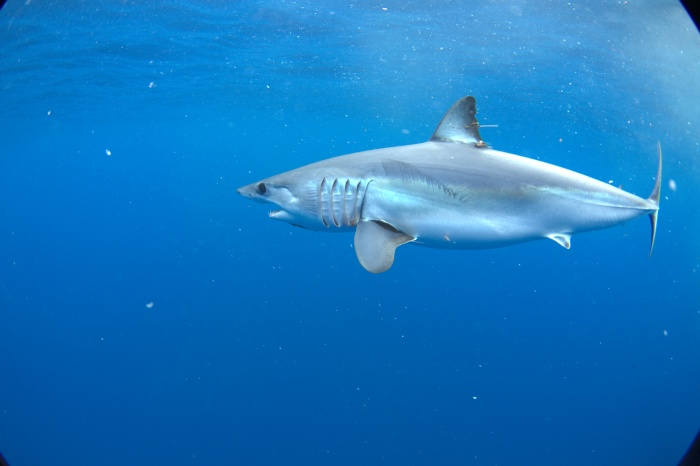Mako: (227, 89, 675, 288)
